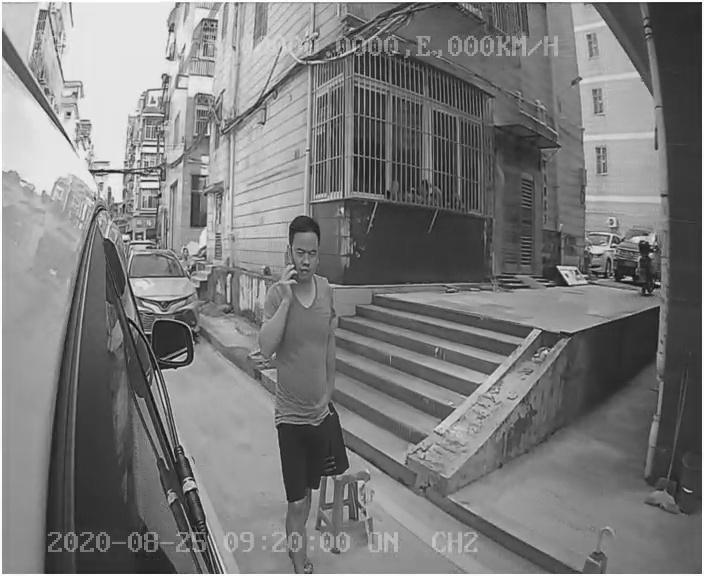person: (247, 212, 379, 540)
